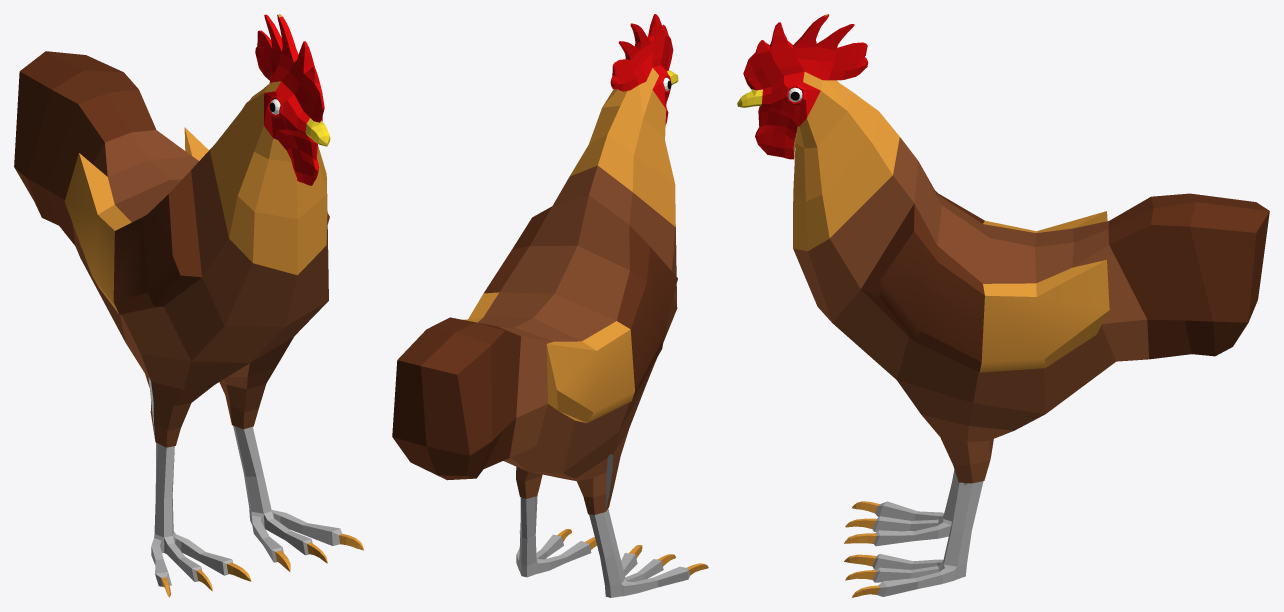
The model's file is chicken.fbx.
3 renders of one model, left to right at view 1: azimuth 30°, elevation 25°; view 2: azimuth 150°, elevation 25°; view 3: azimuth 270°, elevation 25°, orthographic. The views are drawn at different scales.
Parts seen in each view (by area): view 1: Cube; view 2: Cube; view 3: Cube.
Part boxes in pixels (bbox=[...]): Cube: bbox=[14, 14, 363, 597]; Cube: bbox=[392, 14, 708, 597]; Cube: bbox=[737, 14, 1269, 597].
Size of the model in its own units: 94.79 by 265 by 237.
